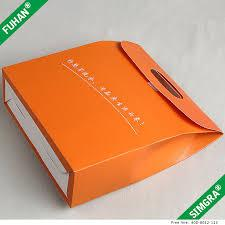Cardboard: (3, 34, 225, 211)
